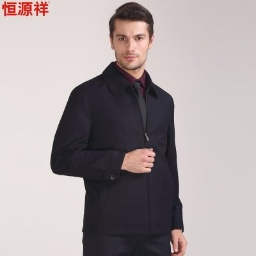face: (107, 1, 154, 74)
